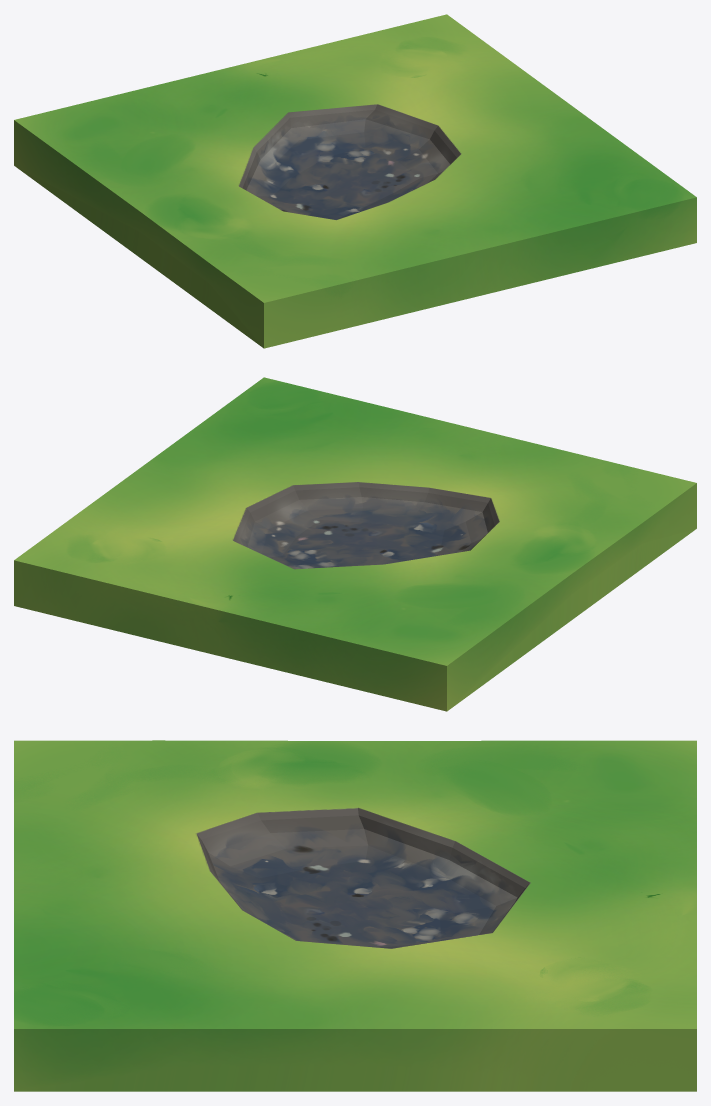
Rendered from Environment_ground.obj.
3 renders of one model, top to bottom at view 1: azimuth 30°, elevation 25°; view 2: azimuth 150°, elevation 25°; view 3: azimuth 270°, elevation 25°, orthographic. The views are drawn at different scales.
Parts seen in each view (by area): view 1: Ground2; view 2: Ground2; view 3: Ground2.
Part boxes in pixels (x1=…): Ground2: x1=14, y1=14, x2=696, y2=348; Ground2: x1=14, y1=377, x2=696, y2=711; Ground2: x1=14, y1=740, x2=696, y2=1091.
Size of the model in its own units: 50 by 5.04 by 50.
Materials: 1 (1 with a texture image).
